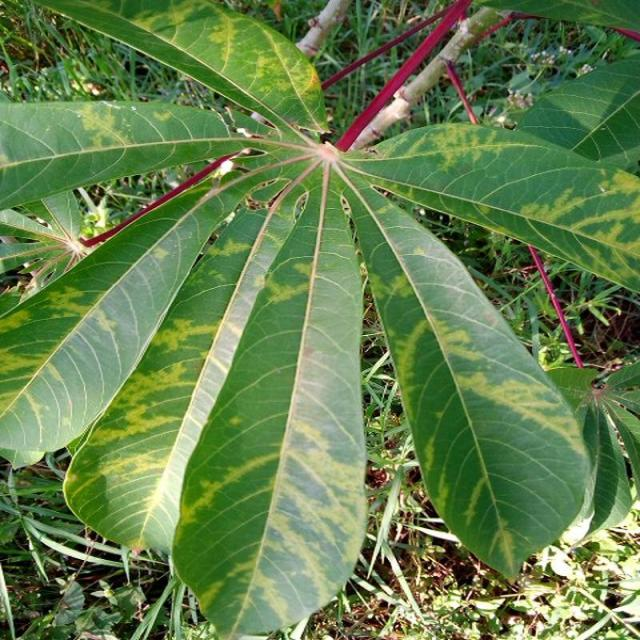cassava leaf: (1, 1, 637, 636), (336, 157, 594, 580), (170, 156, 368, 637), (0, 149, 270, 470), (31, 0, 329, 137)
